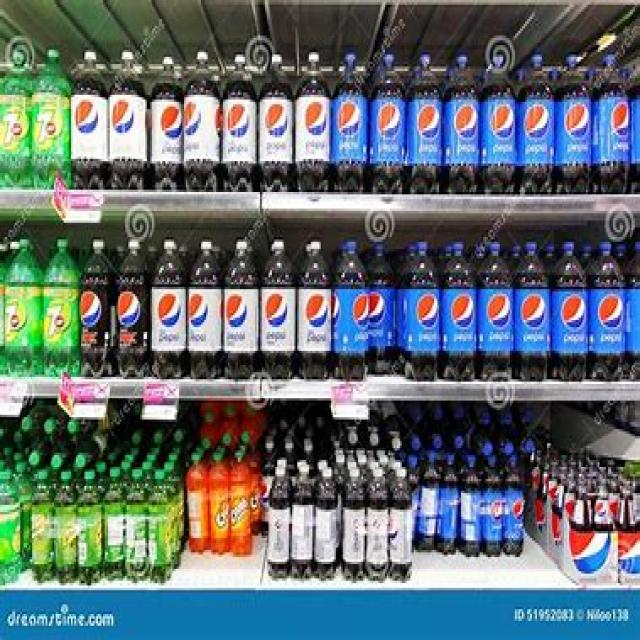7up: (42, 232, 85, 371), (2, 56, 41, 192), (37, 63, 75, 190), (10, 241, 42, 377)
Coke: (480, 44, 520, 192), (334, 50, 372, 189), (525, 52, 563, 191), (449, 50, 483, 195), (594, 242, 628, 380), (558, 55, 593, 183), (518, 245, 552, 371), (411, 53, 443, 184), (407, 247, 441, 365), (560, 248, 592, 368), (376, 59, 407, 181)
